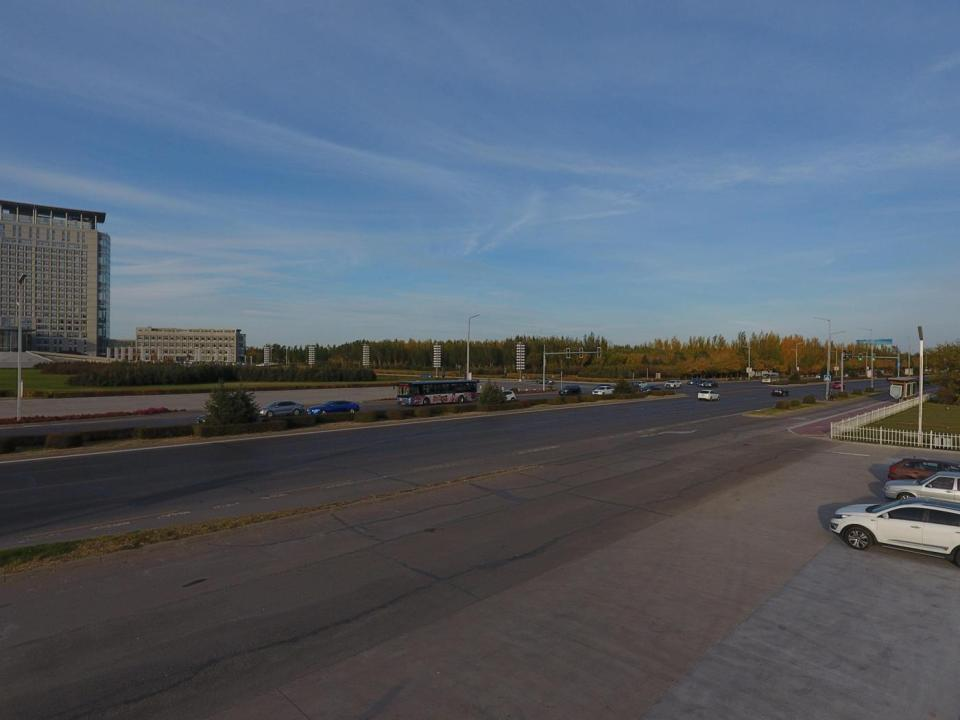bus: (393, 379, 478, 405), (761, 373, 780, 384)
car: (829, 497, 960, 569), (881, 471, 960, 506), (886, 456, 960, 486), (307, 400, 360, 417), (254, 400, 306, 417), (196, 410, 236, 428), (491, 390, 516, 403), (558, 384, 582, 397), (697, 389, 720, 401), (592, 385, 614, 397), (592, 382, 616, 391), (770, 387, 790, 396), (664, 379, 682, 389), (640, 384, 662, 392), (632, 380, 648, 390), (702, 379, 719, 388), (535, 376, 553, 384), (696, 378, 710, 386), (686, 378, 702, 385), (833, 380, 846, 388), (420, 373, 434, 379), (886, 374, 895, 382), (816, 373, 824, 379)
van: (620, 380, 640, 393)
